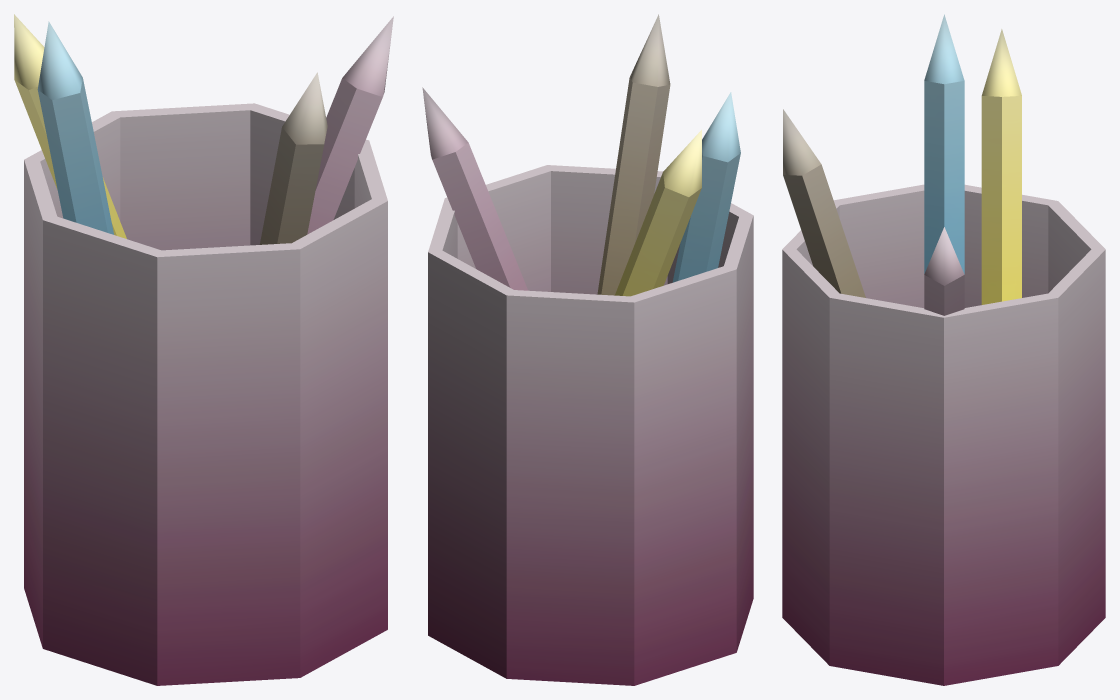
File: Pencil.fbx
The picture shows the model from 3 angles, left to right: view 1: azimuth 30°, elevation 25°; view 2: azimuth 150°, elevation 25°; view 3: azimuth 270°, elevation 25°; orthographic projection. The views are drawn at different scales.
Parts seen in each view (by area): view 1: Pencil_Holder, Pencil4, Pencil5, Pencil3, Pencil2; view 2: Pencil_Holder, Pencil3, Pencil5, Pencil2, Pencil4; view 3: Pencil_Holder, Pencil2, Pencil4, Pencil3, Pencil5.
Part boxes in pixels (<box>): Pencil_Holder: <box>24,103,387,685</box>; Pencil4: <box>37,21,113,234</box>; Pencil5: <box>307,16,393,234</box>; Pencil3: <box>259,72,327,244</box>; Pencil2: <box>14,14,126,238</box>; Pencil_Holder: <box>428,165,753,685</box>; Pencil3: <box>597,14,670,295</box>; Pencil5: <box>422,87,527,290</box>; Pencil2: <box>615,129,701,296</box>; Pencil4: <box>672,92,740,282</box>; Pencil_Holder: <box>782,184,1105,685</box>; Pencil2: <box>981,29,1021,304</box>; Pencil4: <box>924,14,964,274</box>; Pencil3: <box>783,109,865,297</box>; Pencil5: <box>924,227,964,315</box>.
Size of the model in its own units: 1.09 by 1.88 by 1.02.
2 materials, 2 textured.
